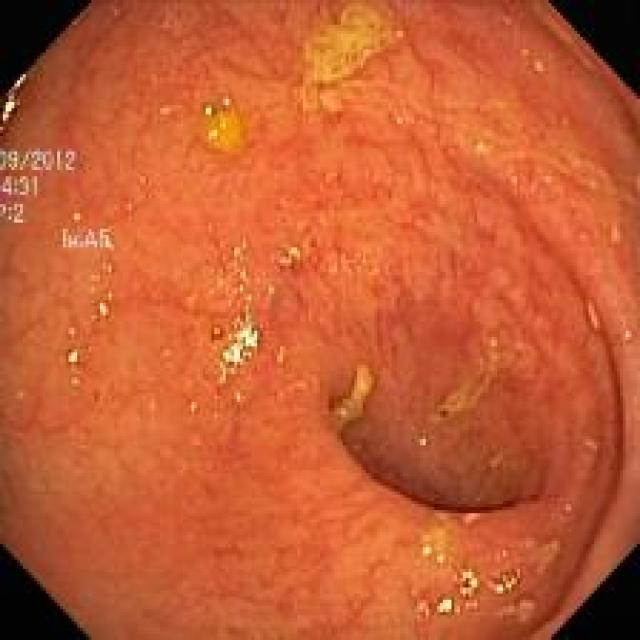ulcerative-colitis-grade-0-1: (49, 51, 617, 597)
